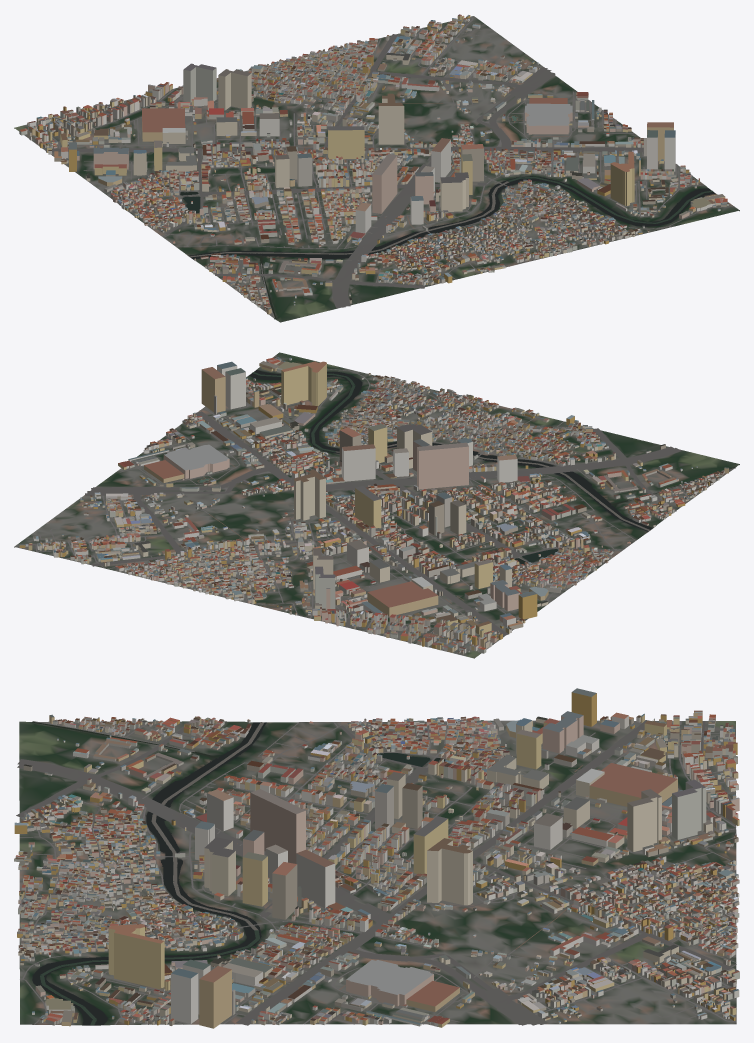
The picture shows the model from 3 angles, top to bottom: view 1: azimuth 30°, elevation 25°; view 2: azimuth 150°, elevation 25°; view 3: azimuth 270°, elevation 25°; orthographic projection. The views are drawn at different scales.
Parts seen in each view (by area): view 1: buildings, ground, roads, water; view 2: buildings, ground, roads, water; view 3: buildings, ground, roads, water.
Boxes of the visible parts, left/top/right/bottom form: buildings: left=19, top=14, right=728, bottom=314; ground: left=14, top=16, right=739, bottom=322; roads: left=26, top=17, right=734, bottom=318; water: left=180, top=116, right=715, bottom=319; buildings: left=19, top=357, right=728, bottom=654; ground: left=14, top=352, right=739, bottom=658; roads: left=18, top=356, right=734, bottom=653; water: left=199, top=370, right=735, bottom=564; buildings: left=14, top=688, right=739, bottom=1028; ground: left=19, top=720, right=736, bottom=1025; roads: left=16, top=720, right=738, bottom=1025; water: left=32, top=721, right=445, bottom=1025.
Bounding box in the file's own units: 1433 × 118 × 1420.
